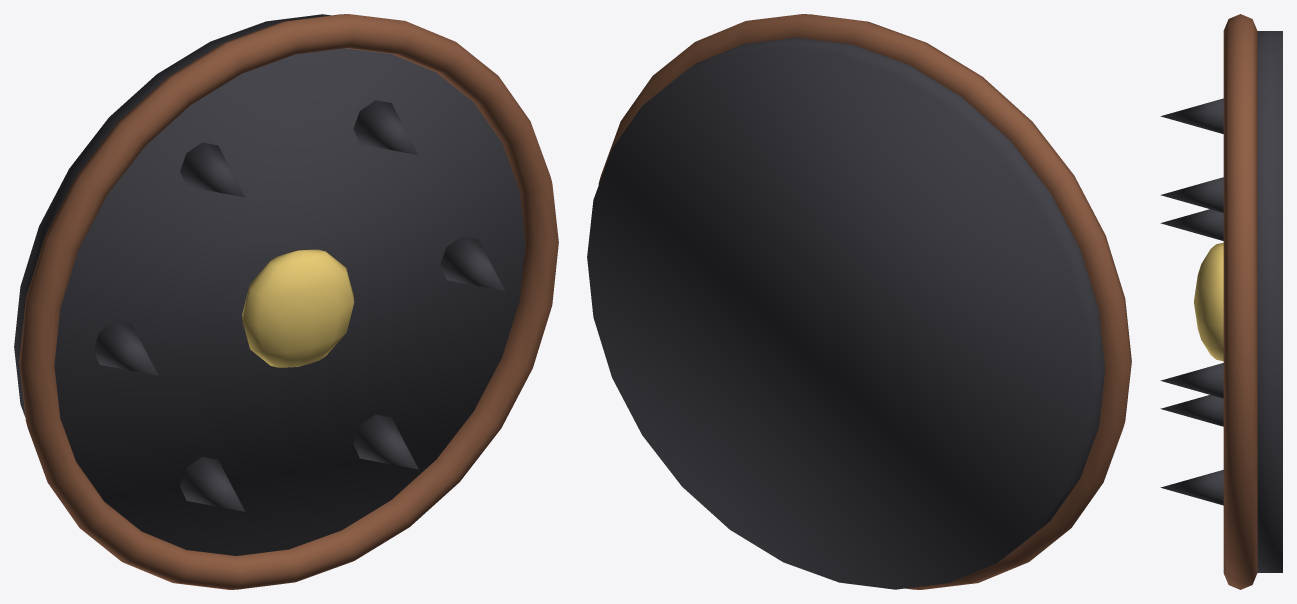
Rendered from wall_gear_shield_spiked.glb.
3 renders of one model, left to right at view 1: azimuth 30°, elevation 25°; view 2: azimuth 150°, elevation 25°; view 3: azimuth 270°, elevation 25°, orthographic. The views are drawn at different scales.
Parts seen in each view (by area): view 1: GD_wall_gear_shield_spiked__m0, GD_wall_gear_shield_spiked__m1, GD_wall_gear_shield_spiked__m2; view 2: GD_wall_gear_shield_spiked__m0, GD_wall_gear_shield_spiked__m1; view 3: GD_wall_gear_shield_spiked__m0, GD_wall_gear_shield_spiked__m1, GD_wall_gear_shield_spiked__m2.
Boxes of the visible parts, x1,y1,x2,y2 form: GD_wall_gear_shield_spiked__m0: [14, 14, 525, 555]; GD_wall_gear_shield_spiked__m1: [19, 14, 558, 589]; GD_wall_gear_shield_spiked__m2: [242, 249, 354, 367]; GD_wall_gear_shield_spiked__m0: [587, 37, 1105, 589]; GD_wall_gear_shield_spiked__m1: [598, 14, 1131, 589]; GD_wall_gear_shield_spiked__m0: [1160, 31, 1282, 572]; GD_wall_gear_shield_spiked__m1: [1223, 14, 1257, 589]; GD_wall_gear_shield_spiked__m2: [1194, 242, 1223, 361].
Bounding box in the file's own units: 0.68 × 0.68 × 0.145.
